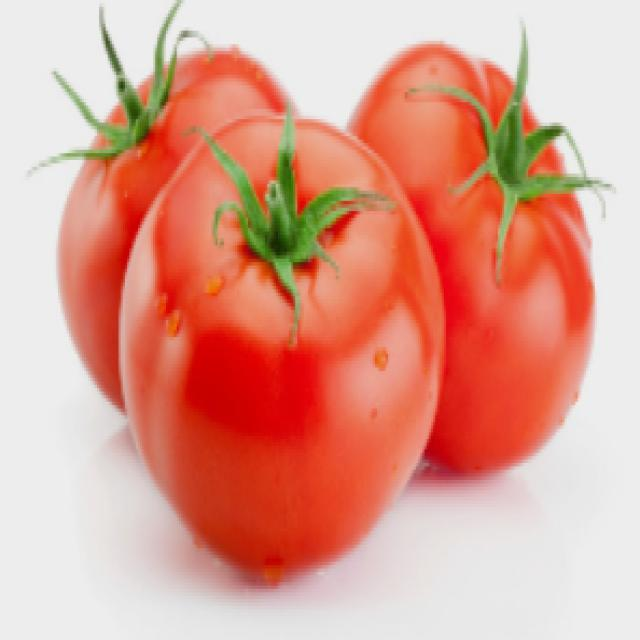Tomato: (123, 124, 427, 586)
